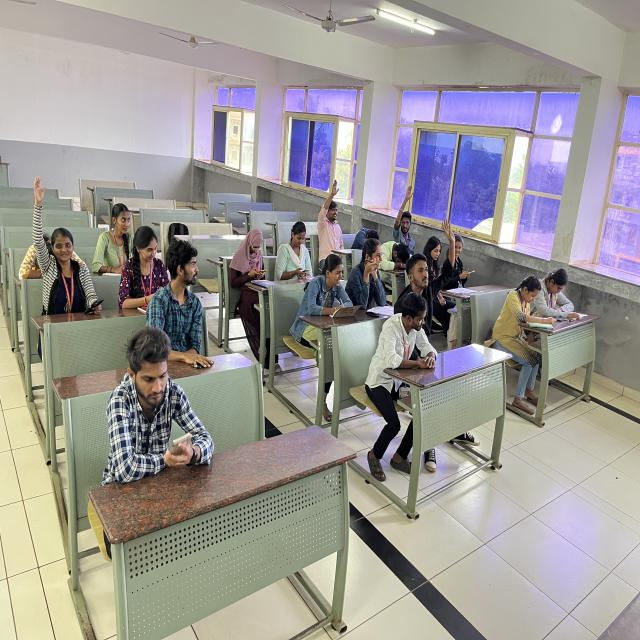Hand Rising: (18, 167, 104, 321), (403, 214, 454, 303), (384, 180, 420, 250), (315, 178, 349, 251)
Reading: (495, 264, 556, 340), (539, 247, 599, 320)
Sleeping: (11, 213, 61, 276), (352, 208, 381, 250), (379, 236, 411, 274)
Using Phone: (115, 311, 204, 474), (225, 205, 275, 304), (271, 213, 317, 285), (451, 226, 481, 282)
Writing: (299, 254, 359, 339)
